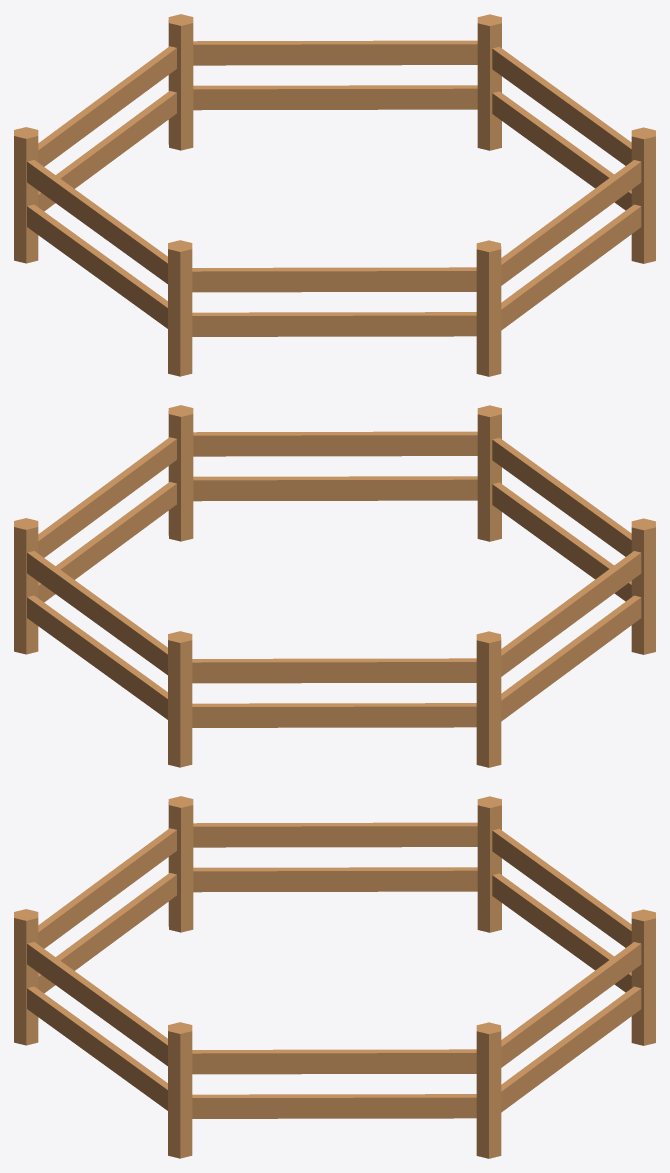
The model's file is Fence.fbx.
3 renders of one model, top to bottom at view 1: azimuth 30°, elevation 25°; view 2: azimuth 150°, elevation 25°; view 3: azimuth 270°, elevation 25°, orthographic.
Parts seen in each view (by area): view 1: Fence; view 2: Fence; view 3: Fence.
Boxes of the visible parts, box(x1,y1,x2,y2) form: Fence: box(14, 14, 655, 376); Fence: box(14, 405, 655, 767); Fence: box(14, 796, 655, 1158).
Bounding box in the file's own units: 0.9763 × 0.2383 × 1.11.
